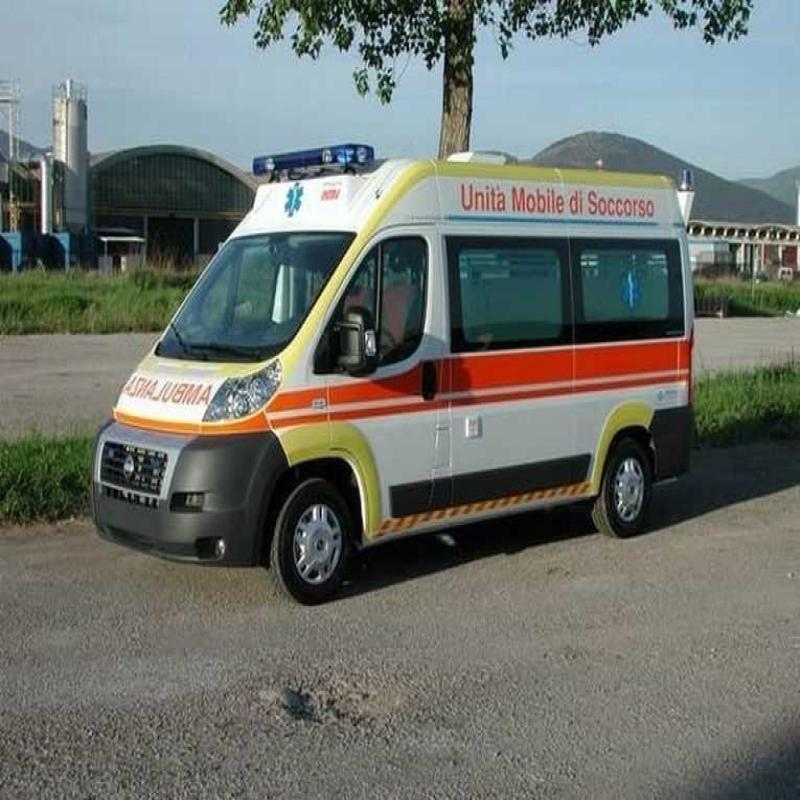AmbulanceSiren: (233, 142, 380, 178)
ambulance: (78, 135, 716, 587)
